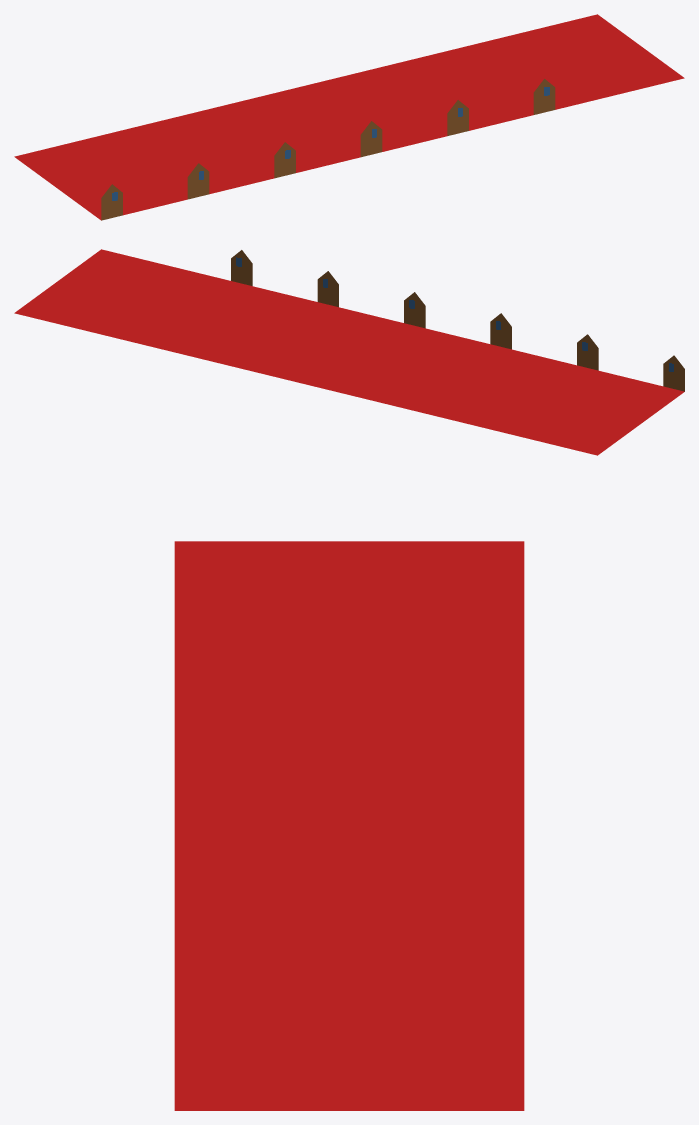
The model's file is instances-sprite.dae.
3 renders of one model, top to bottom at view 1: azimuth 30°, elevation 25°; view 2: azimuth 150°, elevation 25°; view 3: azimuth 270°, elevation 25°, orthographic. The views are drawn at different scales.
Visible parts, largest first — view 1: Arbol (×6), Hoja (×6); view 2: Arbol (×6), Hoja (×6); view 3: Arbol (×6).
Part boxes in pixels (box(x1,y1,x2,y2)): Arbol (×6): box(14, 14, 684, 220); Hoja (×6): box(101, 79, 555, 220); Arbol (×6): box(14, 249, 684, 455); Hoja (×6): box(231, 250, 684, 391); Arbol (×6): box(174, 541, 524, 1110).
Bounding box in the file's own units: 27 × 7 × 1.5.
Materials: 2 (1 with a texture image).
